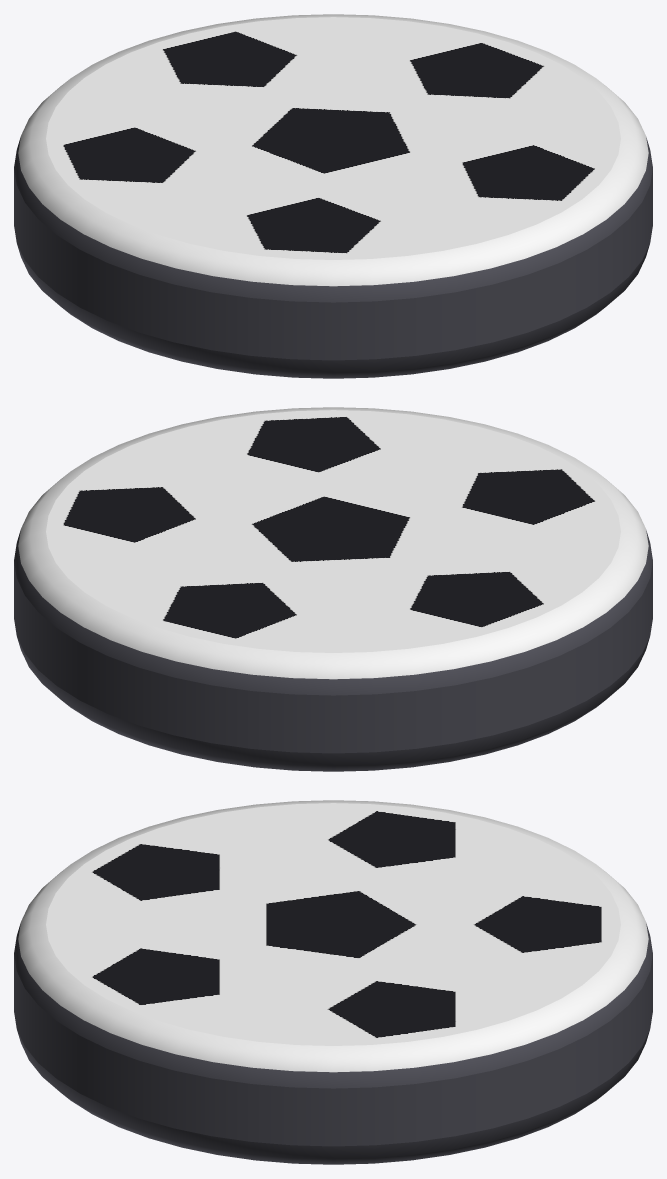
File: Puck.glb
The picture shows the model from 3 angles, top to bottom: view 1: azimuth 30°, elevation 25°; view 2: azimuth 150°, elevation 25°; view 3: azimuth 270°, elevation 25°; orthographic projection.
Visible parts, largest first — view 1: Puck; view 2: Puck; view 3: Puck.
Part boxes in pixels (bbox=[...]): Puck: bbox=[14, 14, 652, 378]; Puck: bbox=[14, 407, 652, 771]; Puck: bbox=[14, 800, 652, 1164].
Size of the model in its own units: 0.6 by 0.12 by 0.6.
2 materials, 1 textured.
